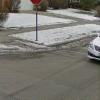Car: (75, 29, 100, 76)
